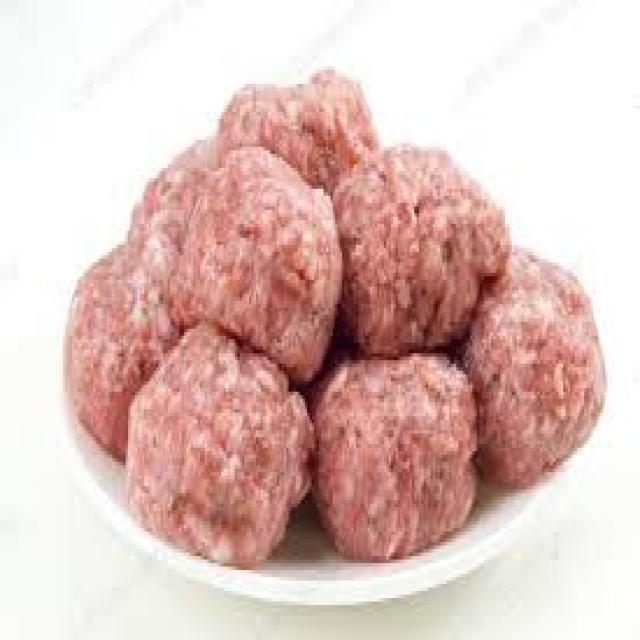Meatball: (103, 322, 325, 581), (447, 238, 610, 494), (310, 338, 476, 569), (336, 137, 505, 356), (178, 150, 337, 382)
